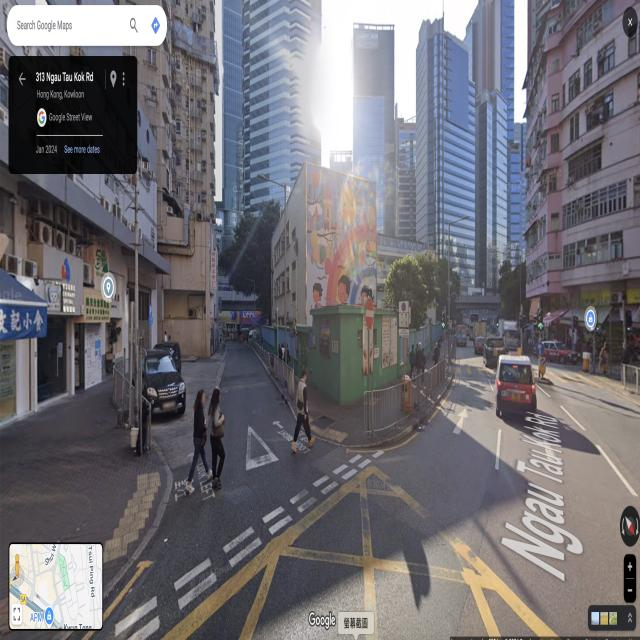Order-Sign: (365, 296, 374, 330), (398, 301, 408, 328), (536, 342, 544, 356), (540, 358, 545, 366)
